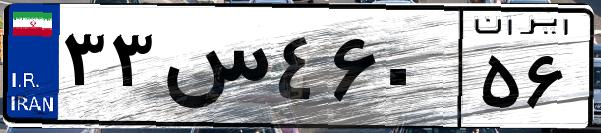0: (385, 28, 445, 110)
3: (57, 26, 110, 100), (110, 28, 158, 98)
4: (270, 28, 330, 110)
5: (475, 38, 525, 113)
6: (330, 28, 385, 110), (525, 38, 570, 115)
س: (158, 20, 270, 120)
